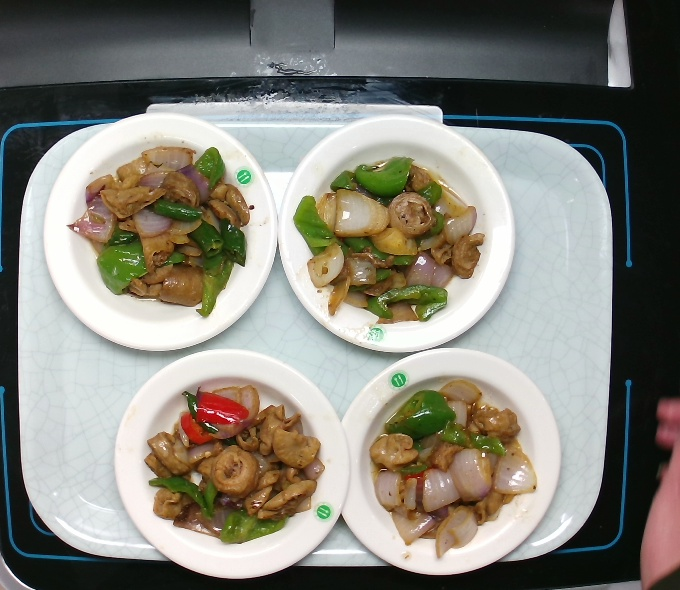wcq-QingJiaoChaoDaChang: (290, 154, 489, 332), (61, 143, 253, 325), (364, 375, 543, 564), (139, 379, 328, 549)
